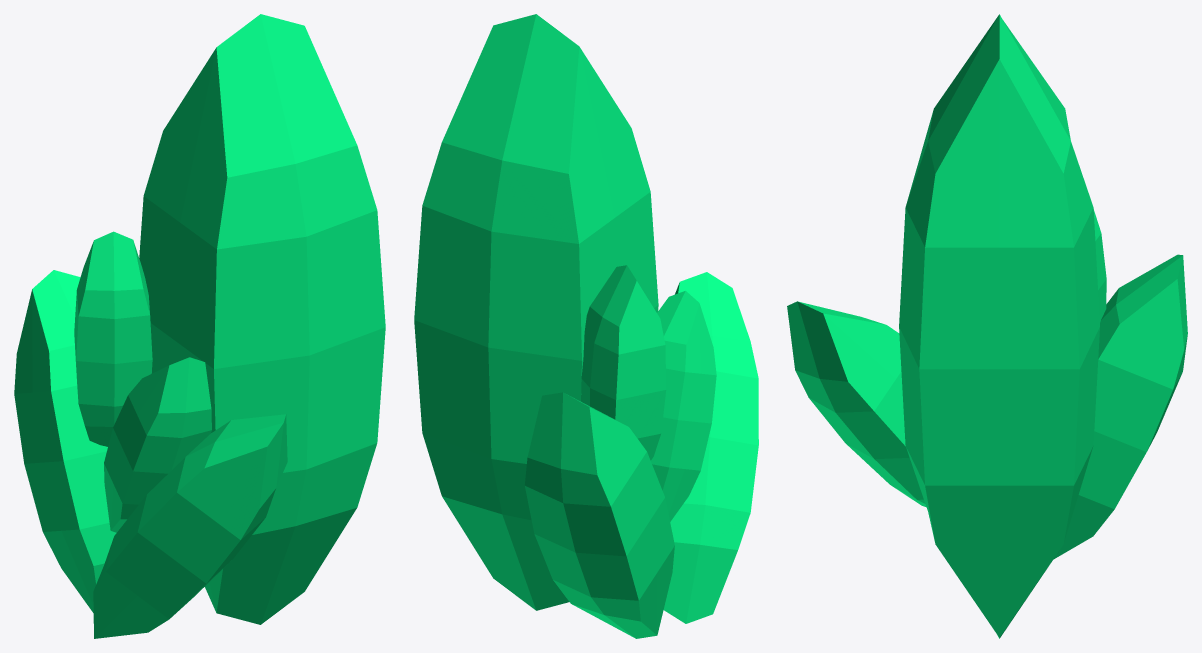
File: cristales luminosos.fbx
The picture shows the model from 3 angles, left to right: view 1: azimuth 30°, elevation 25°; view 2: azimuth 150°, elevation 25°; view 3: azimuth 270°, elevation 25°; orthographic projection. The views are drawn at different scales.
Visible parts, largest first — view 1: cristales magicos; view 2: cristales magicos; view 3: cristales magicos.
Boxes of the visible parts, bbox=[...] form: cristales magicos: bbox=[14, 14, 385, 638]; cristales magicos: bbox=[414, 14, 758, 638]; cristales magicos: bbox=[787, 14, 1187, 638].
Bounding box in the file's own units: 124 × 265 × 154.
